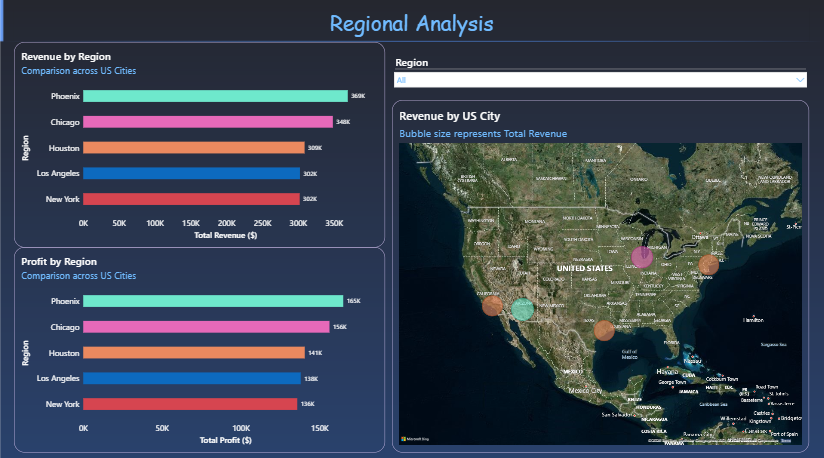

Layout of this report page (visuals, bound fields, positions):
{"tool":"powerbi","page":{"name":"Regional Analysis","canvas":[1920,1080],"ordinal":2},"visuals":[{"type":"textbox","box":[32.5,17.5,1850,80],"z":0},{"type":"map","title":"Revenue by US City","fields":{"Category":["Sheet1 (2).Region"],"Size":["Sum(Sheet1 (2).Revenue)"]},"box":[912.5,232.5,970,820],"z":1000},{"type":"clusteredBarChart","title":"Revenue by Region","fields":{"Category":["Sheet1 (2).Region"],"Y":["Sum(Sheet1 (2).Revenue)"]},"box":[32.5,97.5,862.5,477.5],"z":2000},{"type":"clusteredBarChart","title":"Profit by Region","fields":{"Category":["Sheet1 (2).Region"],"Y":["Sum(Sheet1 (2).Profit)"]},"box":[32.5,575,862.5,477.5],"z":3000},{"type":"slicer","fields":{"Values":["Sheet1 (2).Region"]},"box":[912.5,127.5,970,82.5],"z":4000}]}

Visuals, with their boxes in screenshot pixels (x1, y1, x2, y2), scaled from the page's 1920x1080 canvas onto the 824x458 screenshot:
textbox: crop(14, 7, 808, 41)
"Revenue by US City" map: crop(392, 99, 808, 446)
"Revenue by Region" clusteredBarChart: crop(14, 41, 384, 244)
"Profit by Region" clusteredBarChart: crop(14, 244, 384, 446)
slicer - Sheet1 (2).Region: crop(392, 54, 808, 89)
